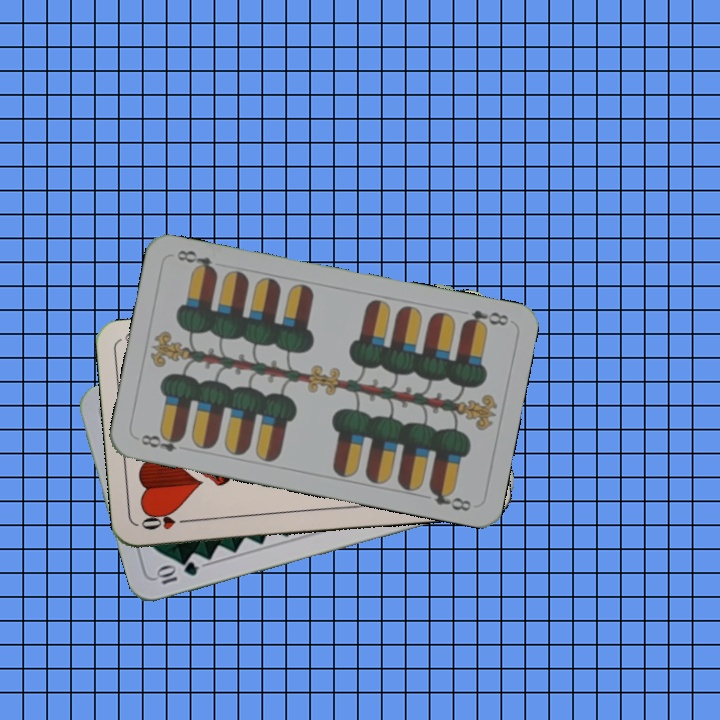E8: (458, 306, 511, 332), (136, 429, 186, 455)
G10: (152, 558, 201, 587)
HO: (137, 509, 195, 533)
